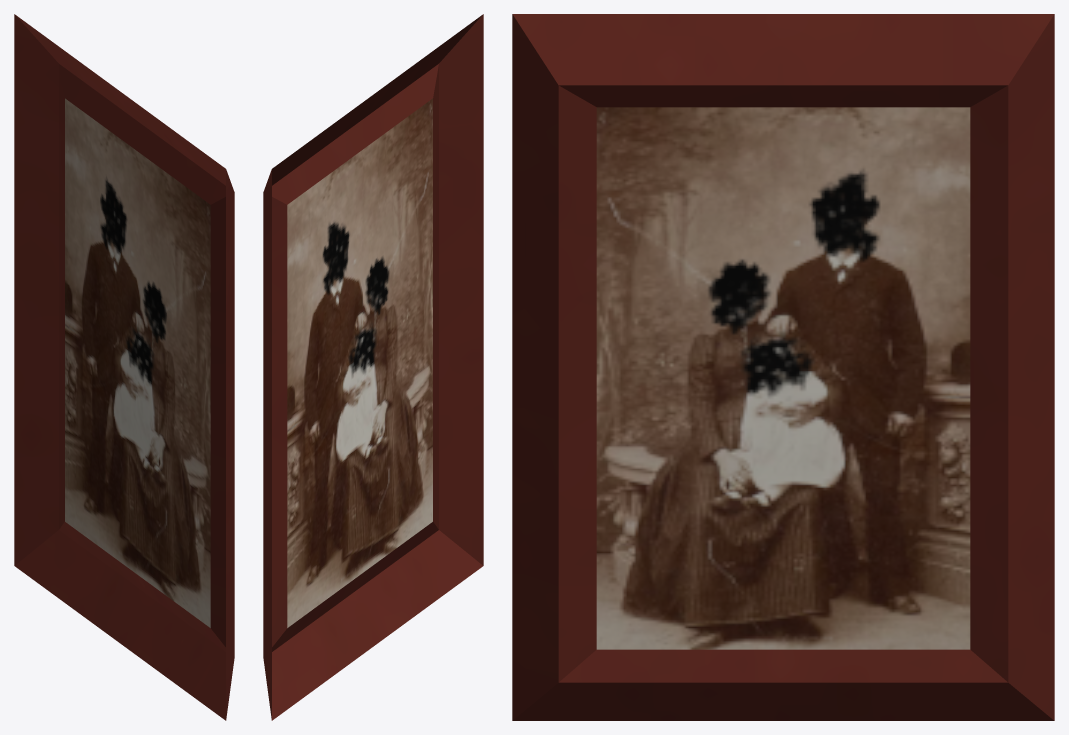
File: Cuadro.fbx
3 renders of one model, left to right at view 1: azimuth 30°, elevation 25°; view 2: azimuth 150°, elevation 25°; view 3: azimuth 270°, elevation 25°, orthographic. The views are drawn at different scales.
Visible parts, largest first — view 1: Cuadro.003; view 2: Cuadro.003; view 3: Cuadro.003.
Boxes of the visible parts, x1,y1,x2,y2 form: Cuadro.003: [14, 14, 234, 720]; Cuadro.003: [263, 14, 483, 720]; Cuadro.003: [512, 14, 1054, 720].
Bounding box in the file's own units: 4.05 × 80.81 × 56.16.
